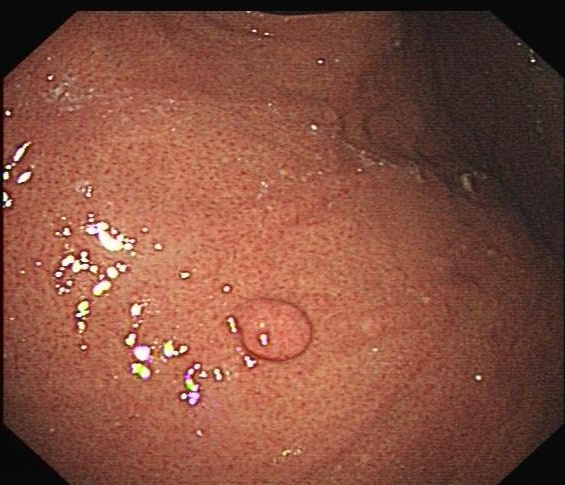Polyp: (230, 294, 308, 365)
